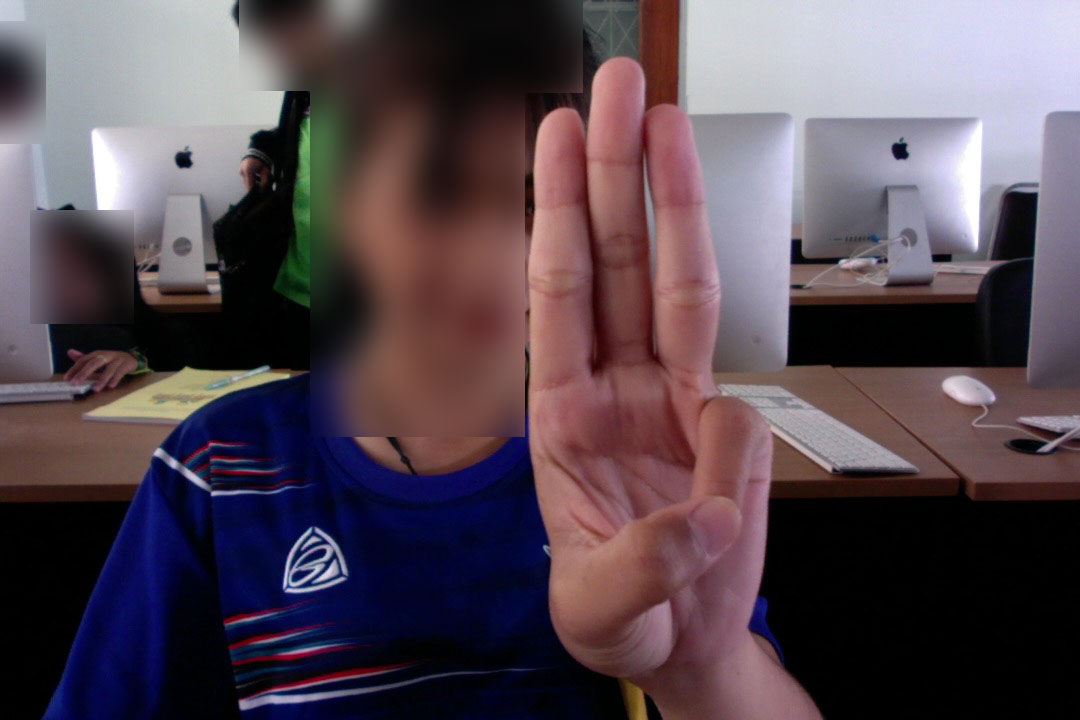wor: (519, 51, 792, 683)
